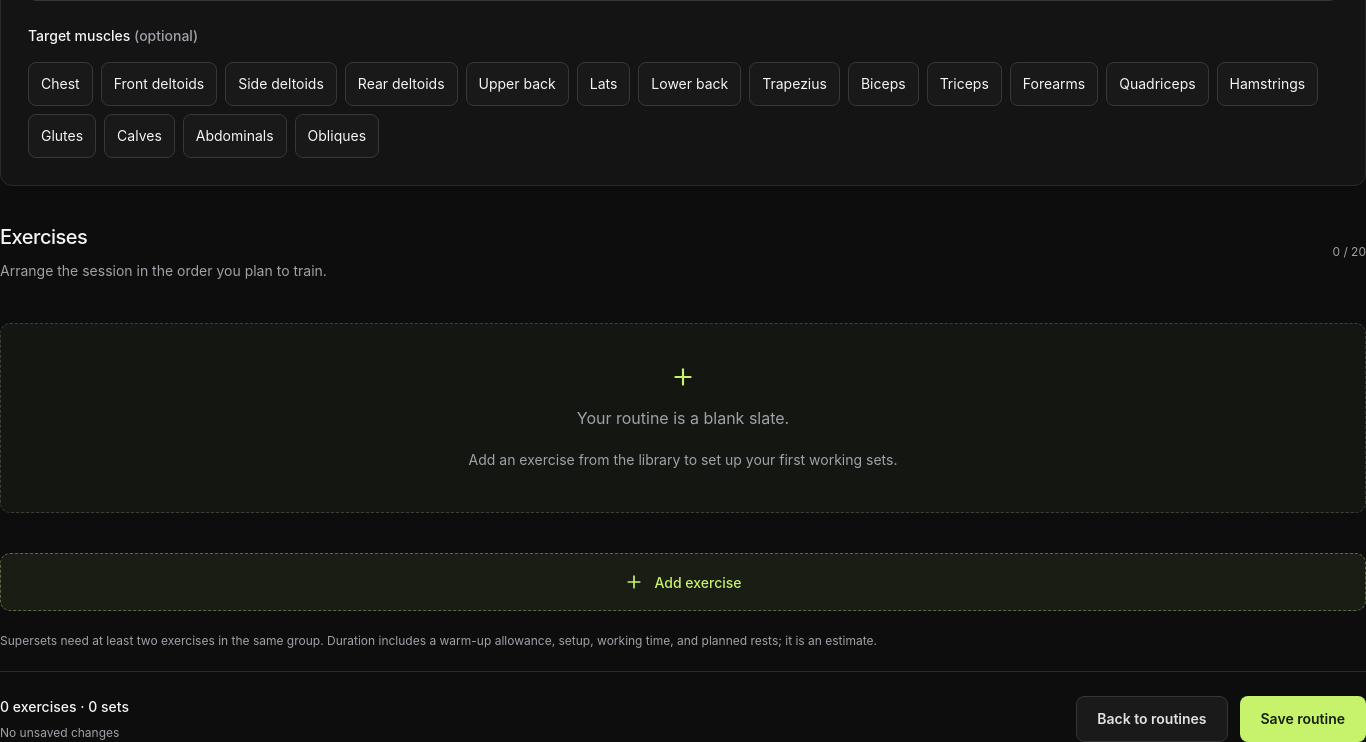
Test: Routine builder › preserves recovered edits when that exercise already has different saved details
(page scrolled)
Click the button "Add exercise" at (683, 582), box [0,553,1365,611]
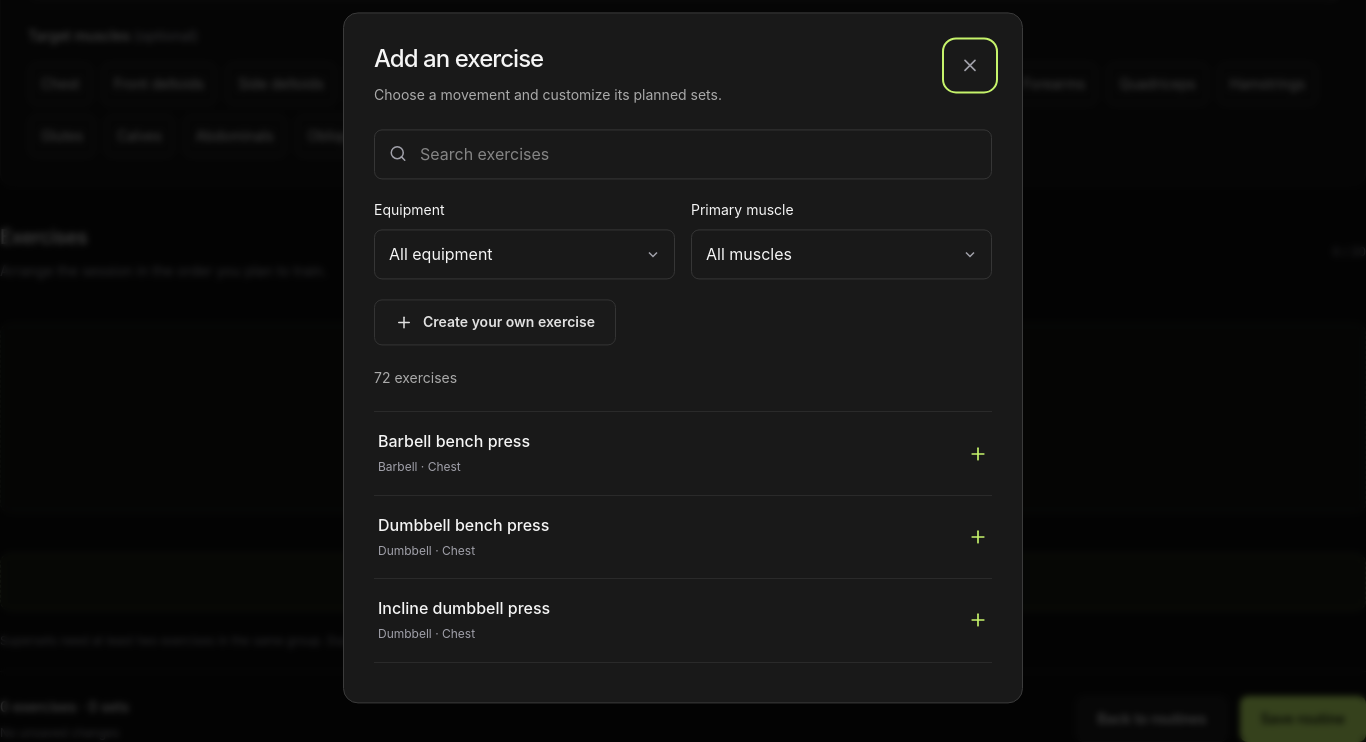
Click the button "Create your own exercise" at (495, 322), box [374,299,616,345]
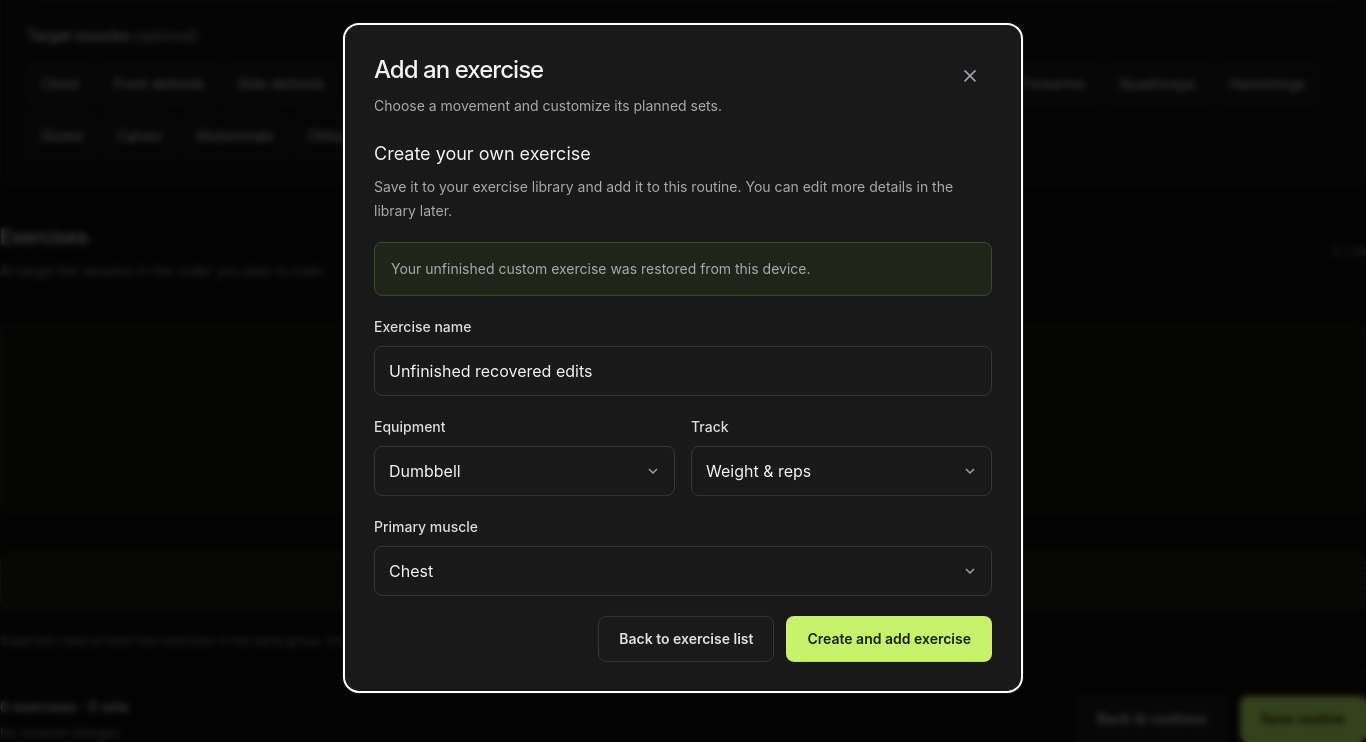
Click the button "Create and add exercise" at (889, 639), box [786,616,992,662]
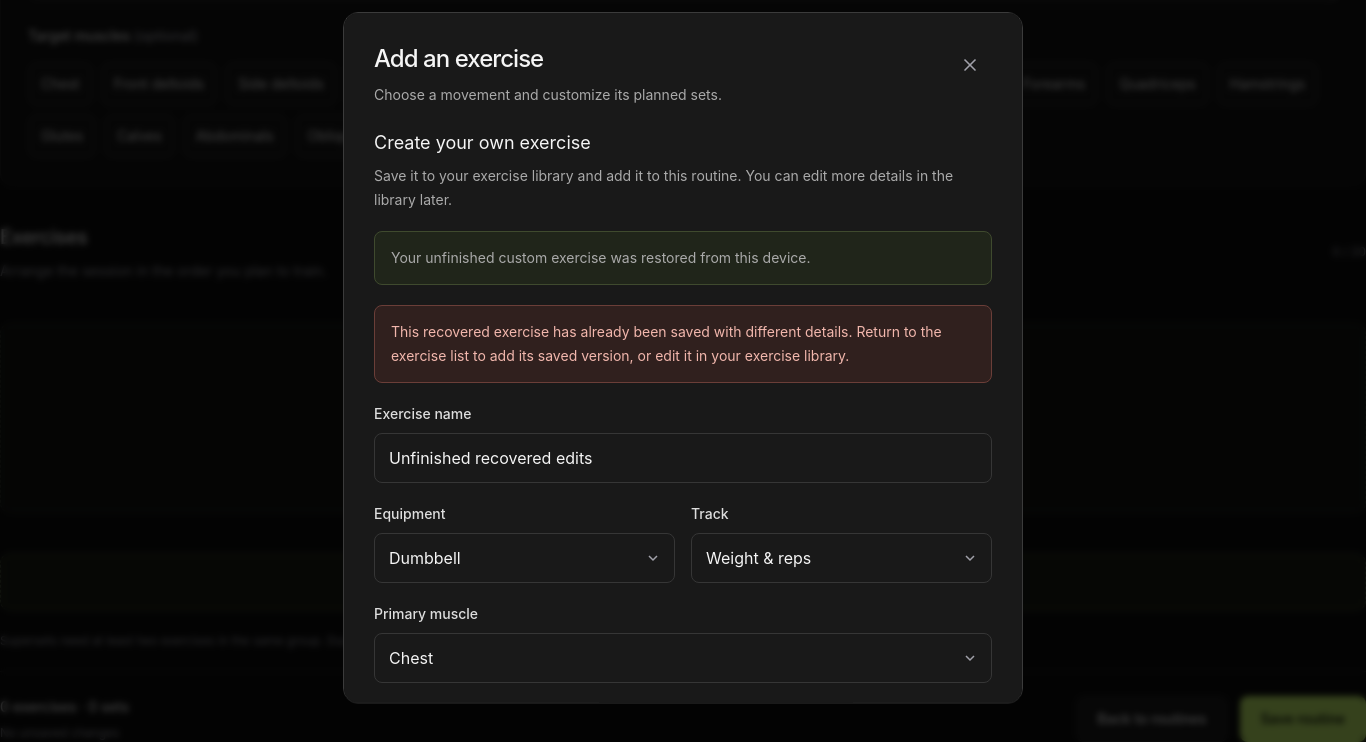
Check: the field labelled "Exercise name" holds "Unfinished recovered edits", box [374,433,992,483]
Check: the 2nd message shows "already been saved with different details", box [391,324,942,364]
